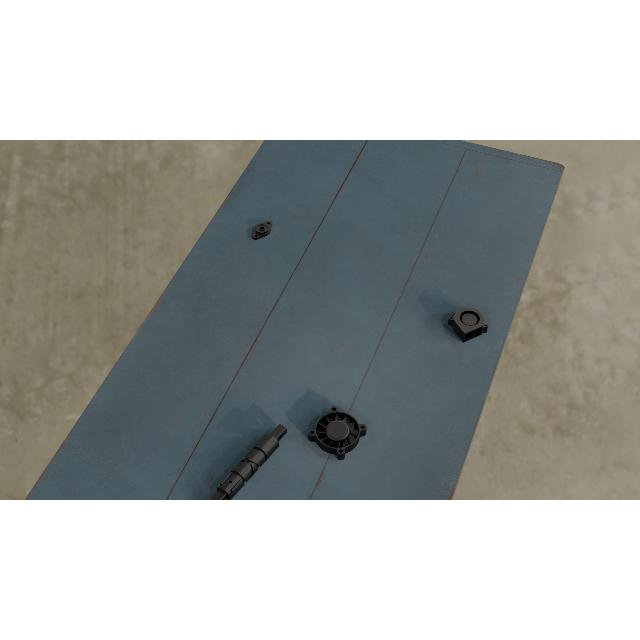Pieza1: (198, 418, 290, 499)
Pieza2: (248, 218, 276, 242)
Pieza3: (446, 303, 490, 343)
Pieza4: (306, 405, 369, 463)
